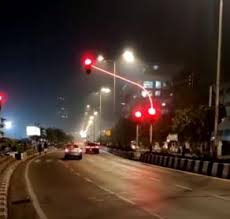signal: (81, 54, 93, 70), (146, 105, 159, 119), (132, 108, 144, 122)
